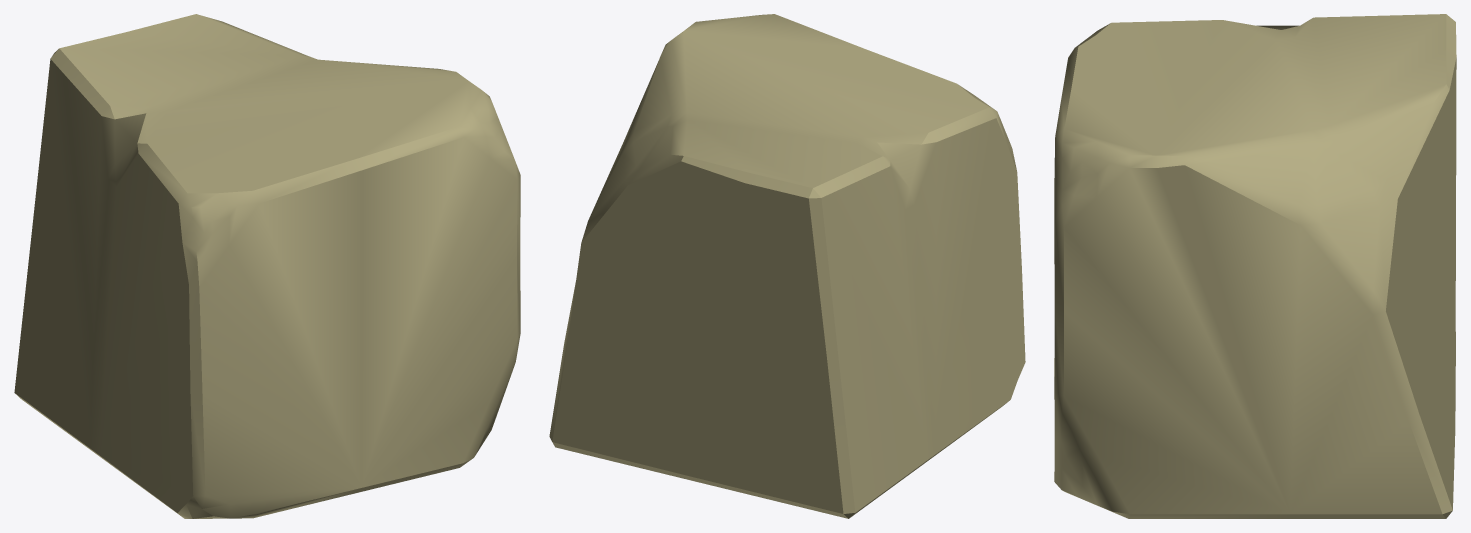
The model's file is cube_smaller.fbx.
3 renders of one model, left to right at view 1: azimuth 30°, elevation 25°; view 2: azimuth 150°, elevation 25°; view 3: azimuth 270°, elevation 25°, orthographic. The views are drawn at different scales.
Parts seen in each view (by area): view 1: Block_2; view 2: Block_2; view 3: Block_2.
Boxes of the visible parts, x1=… form: Block_2: x1=14, y1=14, x2=520, y2=518; Block_2: x1=549, y1=14, x2=1025, y2=518; Block_2: x1=1054, y1=14, x2=1456, y2=518.
Size of the model in its own units: 74.03 by 74.04 by 74.11.
